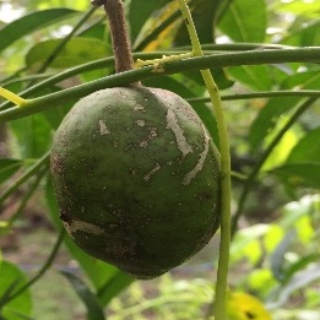coc: (50, 87, 221, 279)
